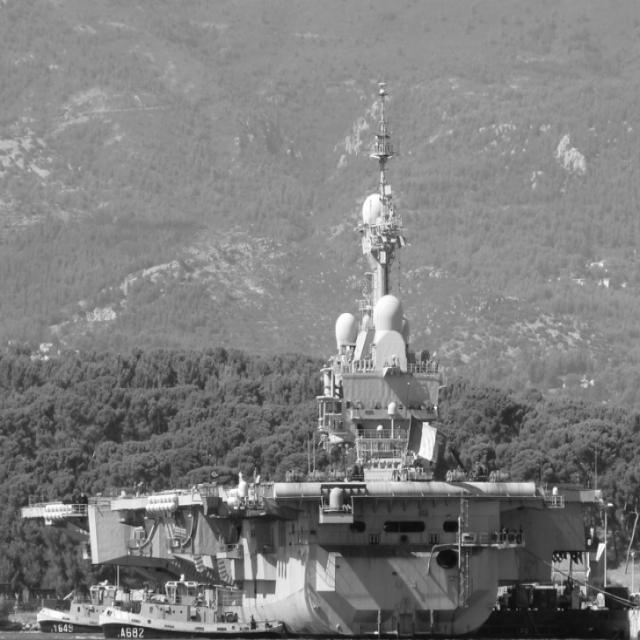Portanaves: (21, 103, 609, 640)
